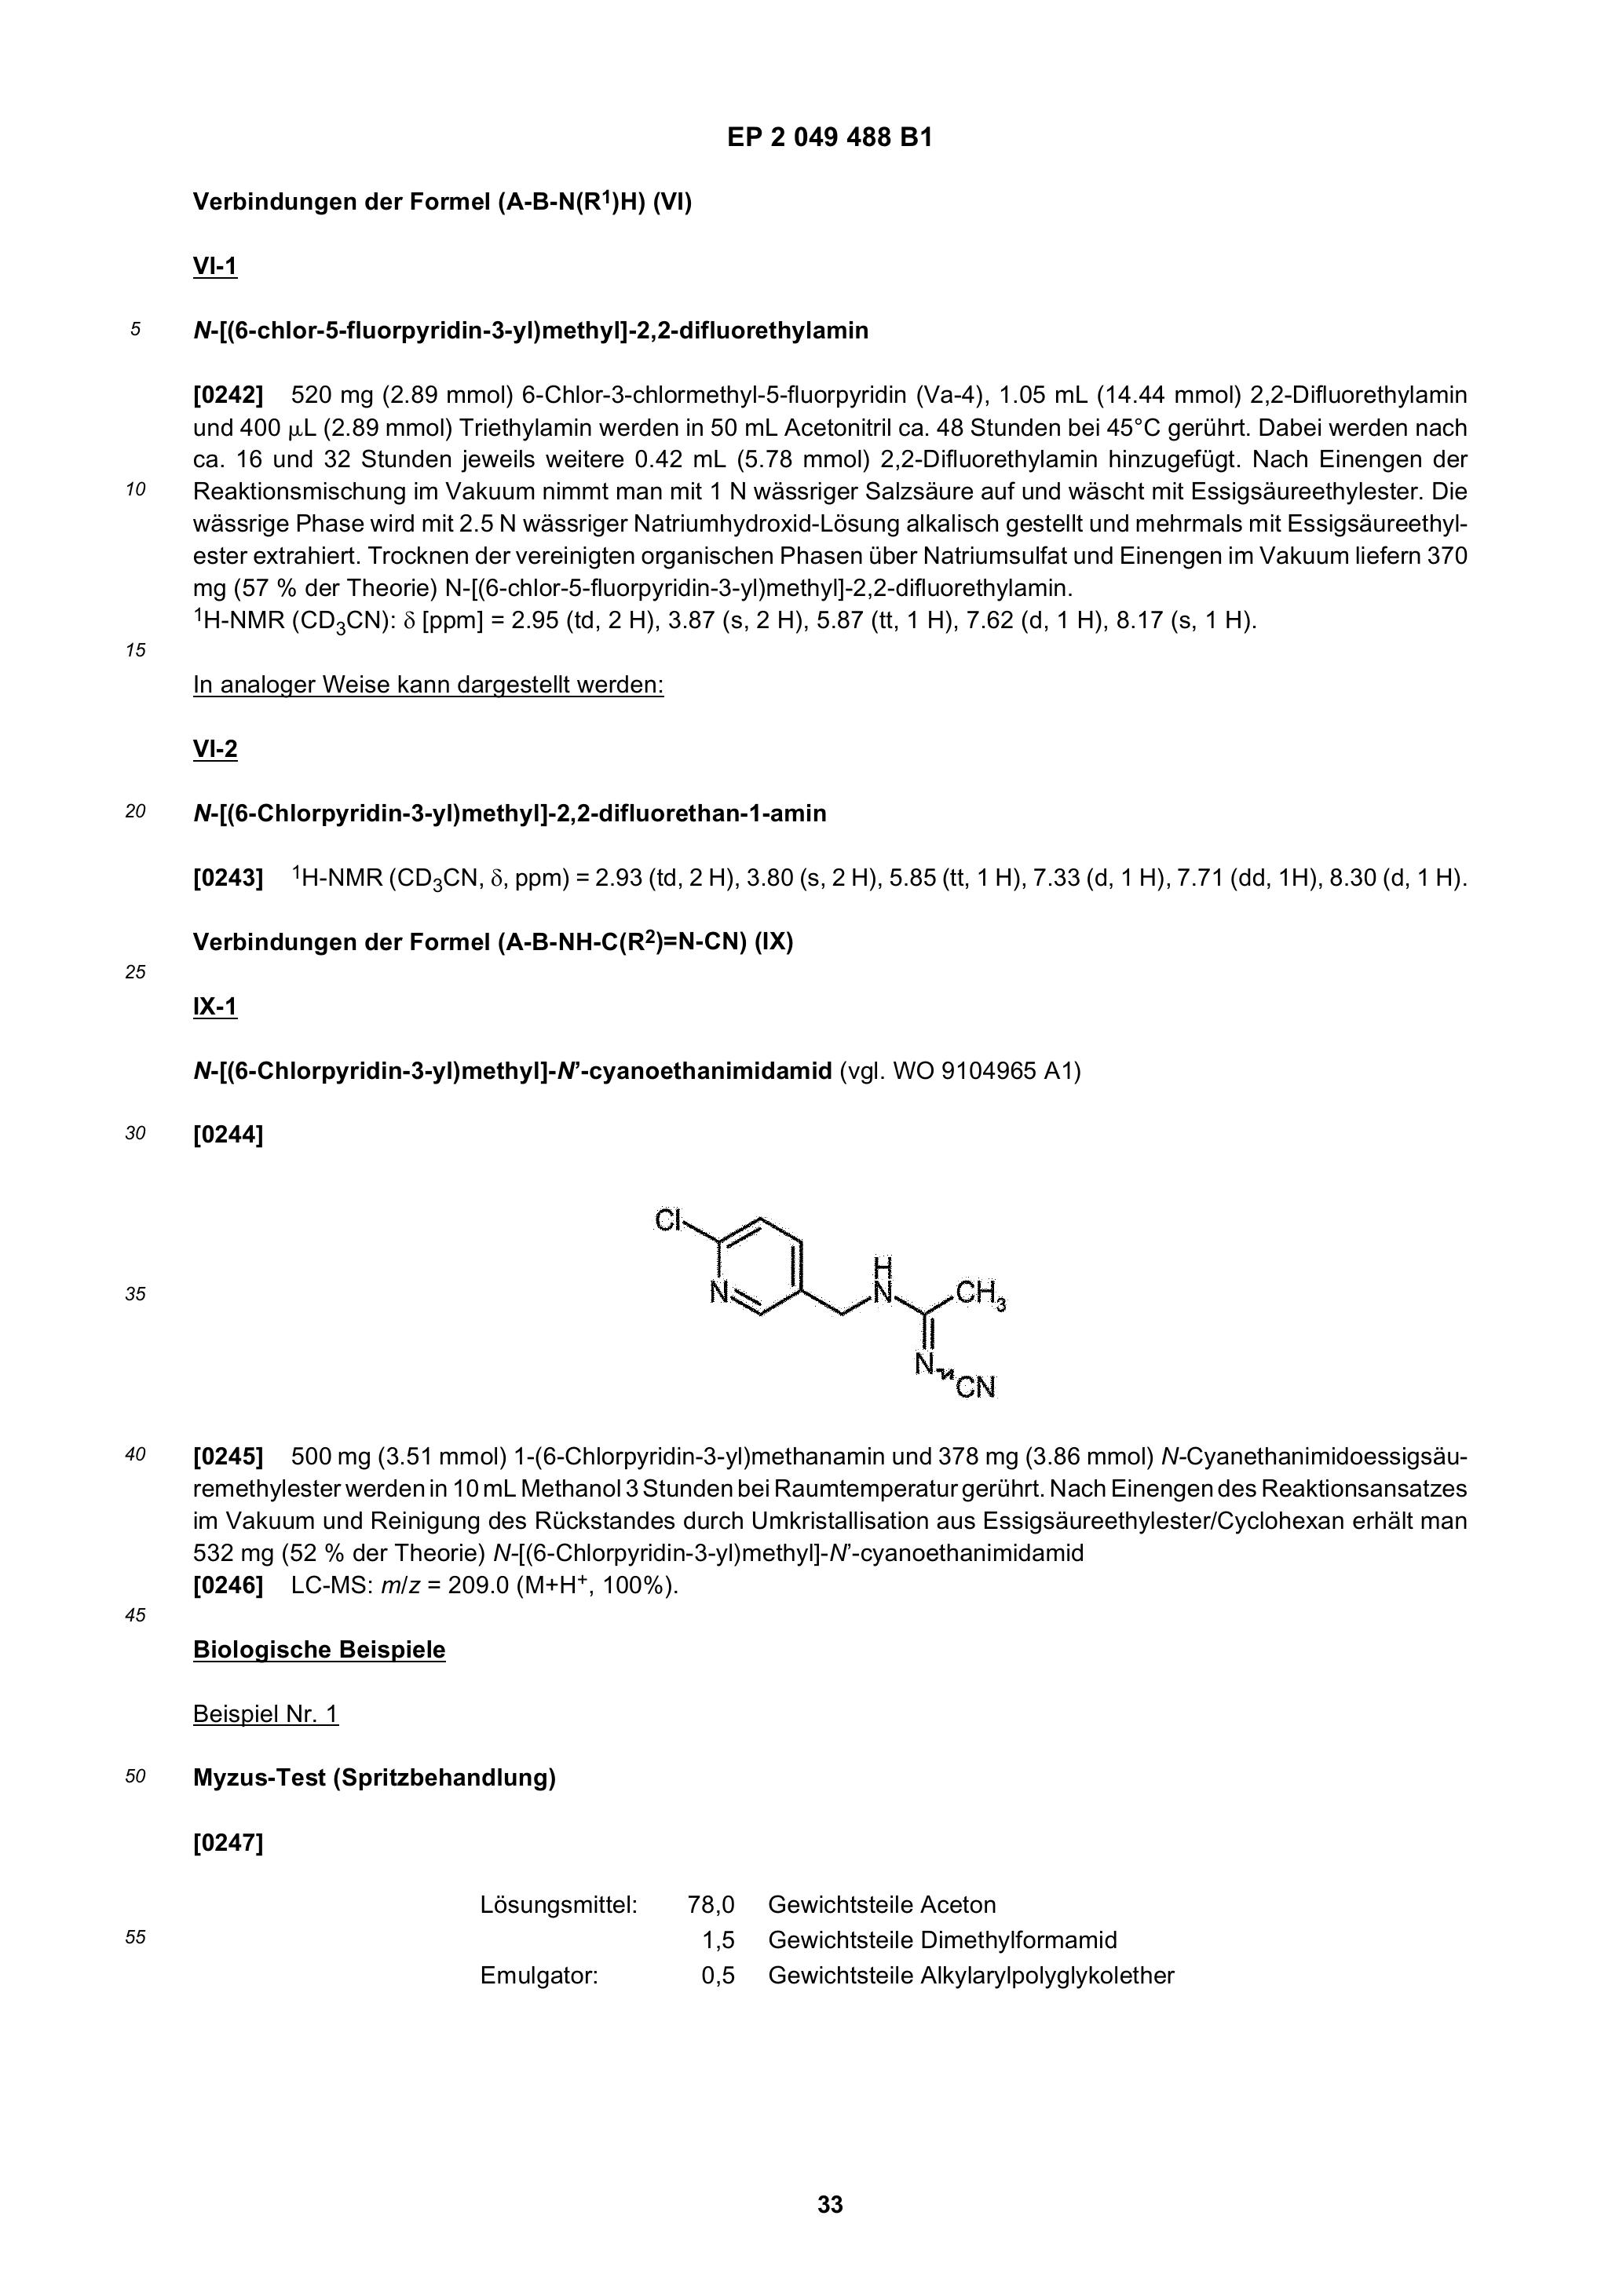relevant-structures: (601, 1175, 1068, 1423)
